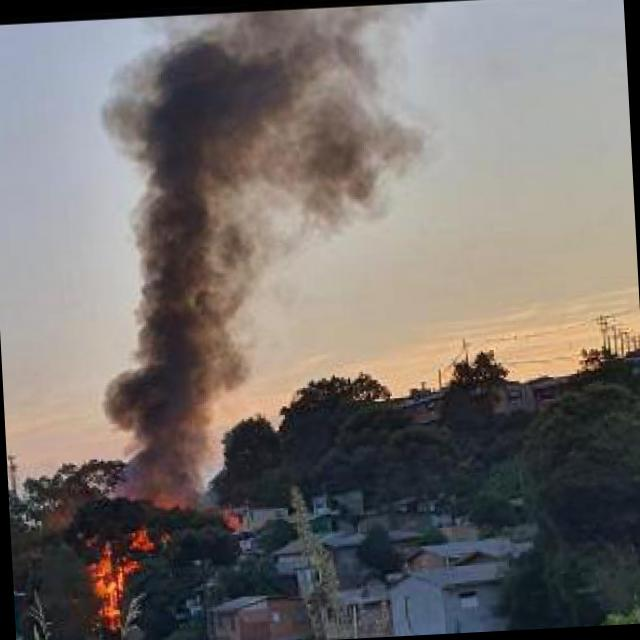fire: (84, 530, 156, 601)
smoke: (80, 54, 252, 513), (220, 0, 448, 192)
